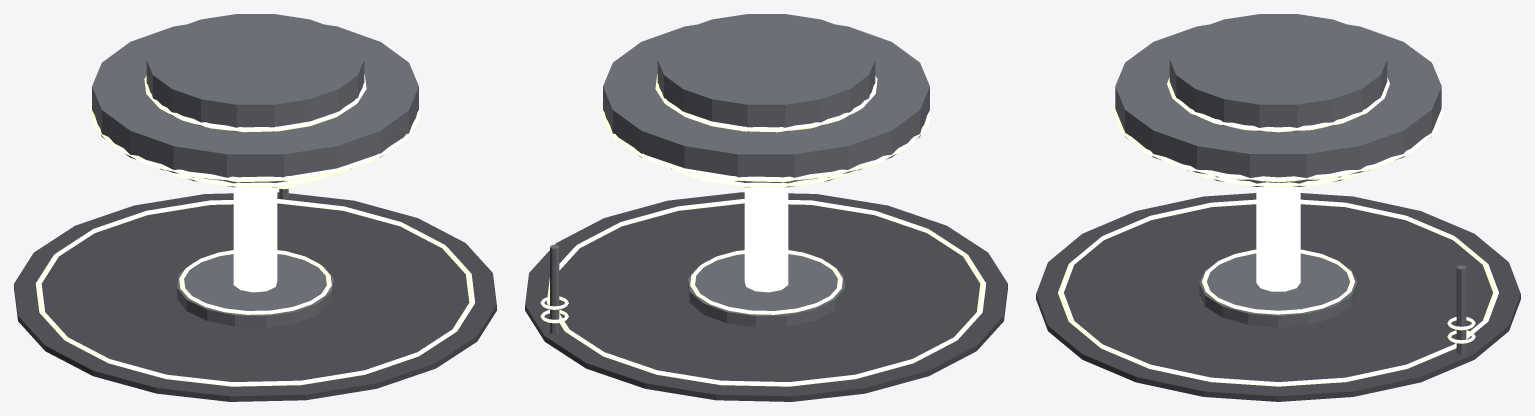
The model's file is zone_low_5_t2.glb.
3 renders of one model, left to right at view 1: azimuth 30°, elevation 25°; view 2: azimuth 150°, elevation 25°; view 3: azimuth 270°, elevation 25°, orthographic.
Parts seen in each view (by area): view 1: zone_low_5_t2, detail; view 2: zone_low_5_t2, detail; view 3: zone_low_5_t2, detail.
Part boxes in pixels (bbox=[...]): zone_low_5_t2: bbox=[14, 14, 496, 401]; detail: bbox=[35, 184, 475, 386]; zone_low_5_t2: bbox=[525, 14, 1007, 401]; detail: bbox=[540, 199, 986, 386]; zone_low_5_t2: bbox=[1036, 14, 1520, 401]; detail: bbox=[1058, 199, 1498, 386].
Bounding box in the file's own units: 19.6 × 10.72 × 19.6.
